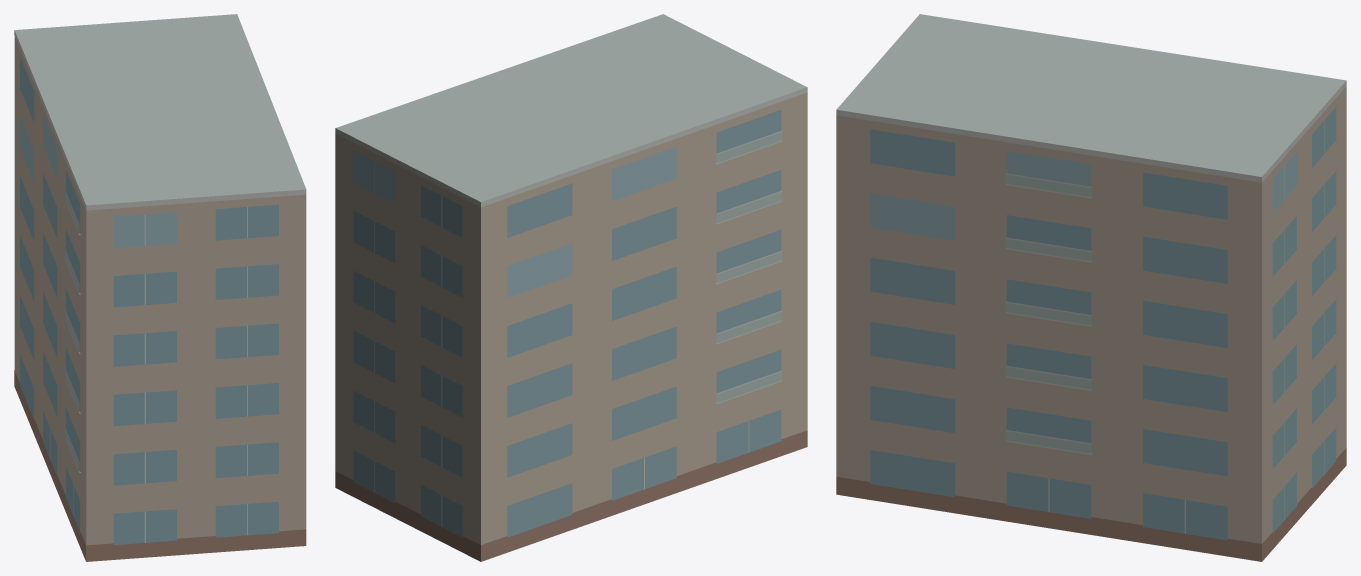
The model's file is survey-upis-32538075.glb.
The picture shows the model from 3 angles, left to right: view 1: azimuth 30°, elevation 25°; view 2: azimuth 150°, elevation 25°; view 3: azimuth 270°, elevation 25°; orthographic projection. The views are drawn at different scales.
Parts seen in each view (by area): view 1: survey-upis-32538075.tmp; view 2: survey-upis-32538075.tmp; view 3: survey-upis-32538075.tmp.
Boxes of the visible parts, <box> form: survey-upis-32538075.tmp: <box>14,14,306,561</box>; survey-upis-32538075.tmp: <box>335,14,807,561</box>; survey-upis-32538075.tmp: <box>836,14,1346,561</box>.
Bounding box in the file's own units: 15.32 × 16.85 × 20.26.
